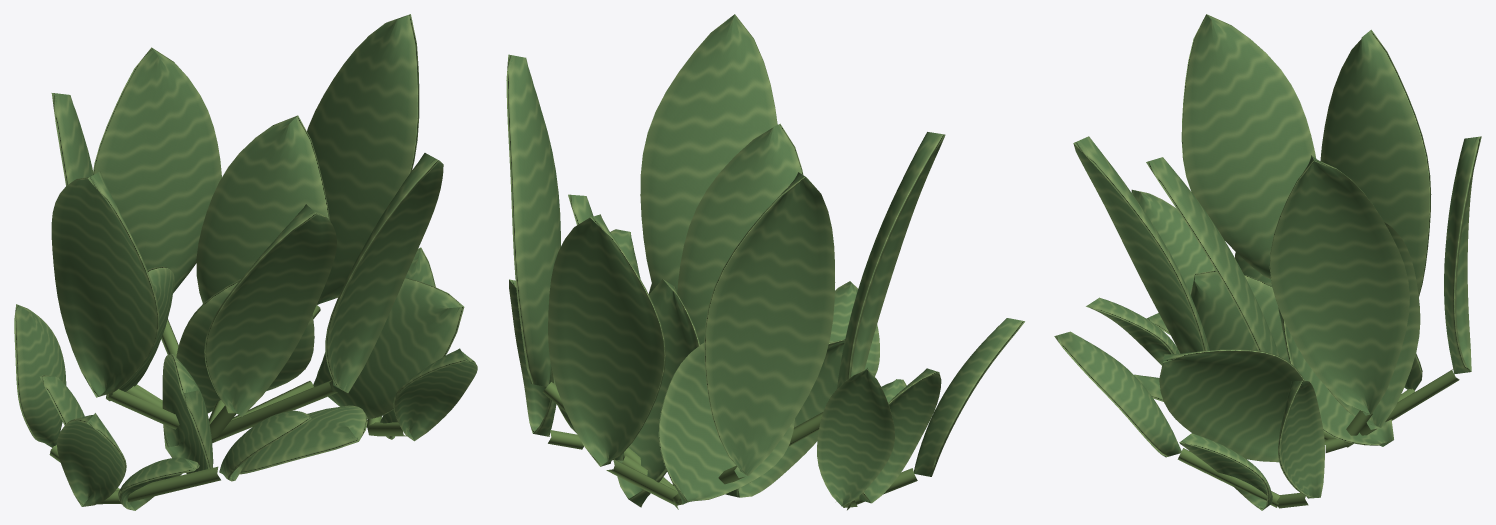
Rendered from sansevieria-stage-7.glb.
3 views of the same model, side by side, from view 1: azimuth 30°, elevation 25°; view 2: azimuth 150°, elevation 25°; view 3: azimuth 270°, elevation 25° (orthographic). The views are drawn at different scales.
Parts seen in each view (by area): view 1: Leaf_9, Leaf_11, Leaf_10, Leaf_7, Leaf_6, Leaf_8, Leaf_3, PlantBranches, Leaf_16, Leaf_14, Leaf_19, Leaf_2 (+8 smaller); view 2: Leaf_5, Leaf_9, Leaf_8, Leaf_11, Leaf_7, Leaf_4, Leaf_16, Leaf_10, Leaf_1, Leaf_14, Leaf_13, PlantBranches (+3 smaller); view 3: Leaf_11, Leaf_10, Leaf_5, Leaf_3, Leaf_8, Leaf_9, Leaf_7, Leaf_19, Leaf_2, Leaf_18, PlantBranches, Leaf_6 (+4 smaller).
Boxes of the visible parts, x1,y1,x2,y2 form: Leaf_9: (93,47,221,293); Leaf_11: (307,14,419,304); Leaf_10: (51,171,159,397); Leaf_7: (204,204,336,416); Leaf_6: (196,115,330,303); Leaf_8: (325,153,443,392); Leaf_3: (313,278,464,418); PlantBranches: (49,305,406,504); Leaf_16: (14,304,66,447); Leaf_14: (57,413,126,506); Leaf_19: (393,348,477,441); Leaf_2: (162,354,213,473); Leaf_5: (704,172,835,476); Leaf_9: (548,214,665,466); Leaf_8: (640,14,777,292); Leaf_11: (506,54,560,386); Leaf_7: (677,123,803,344); Leaf_4: (658,343,794,504); Leaf_16: (817,368,894,506); Leaf_10: (837,132,945,388); Leaf_1: (613,279,700,507); Leaf_14: (914,318,1024,476); Leaf_13: (859,368,941,503); PlantBranches: (542,382,917,510); Leaf_11: (1269,155,1409,414); Leaf_10: (1181,14,1316,279); Leaf_5: (1320,29,1431,296); Leaf_3: (1159,349,1304,462); Leaf_8: (1073,136,1209,353); Leaf_9: (1444,136,1481,374); Leaf_7: (1146,157,1279,356); Leaf_19: (1054,331,1181,457); Leaf_2: (1190,270,1289,361); Leaf_18: (1278,380,1324,498); PlantBranches: (1177,369,1459,508); Leaf_6: (1325,222,1420,427).
Size of the model in its own units: 1.69 by 1.49 by 1.54.
Materials: 2 (1 with a texture image).
